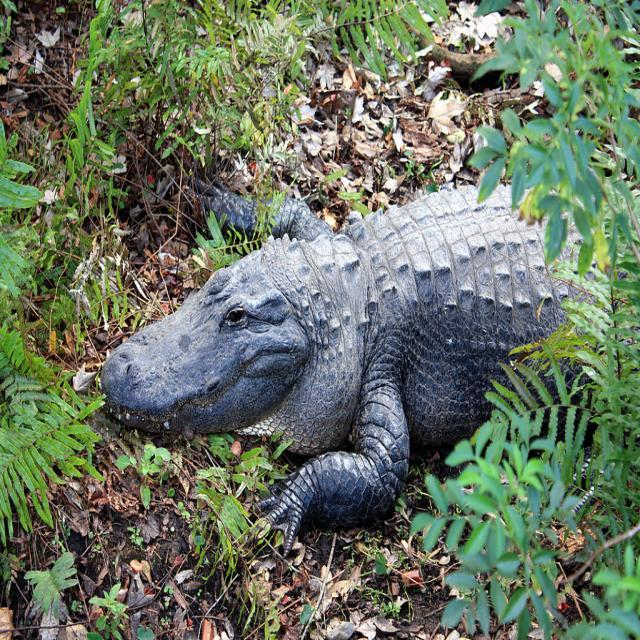crocodile: (93, 176, 596, 554)
